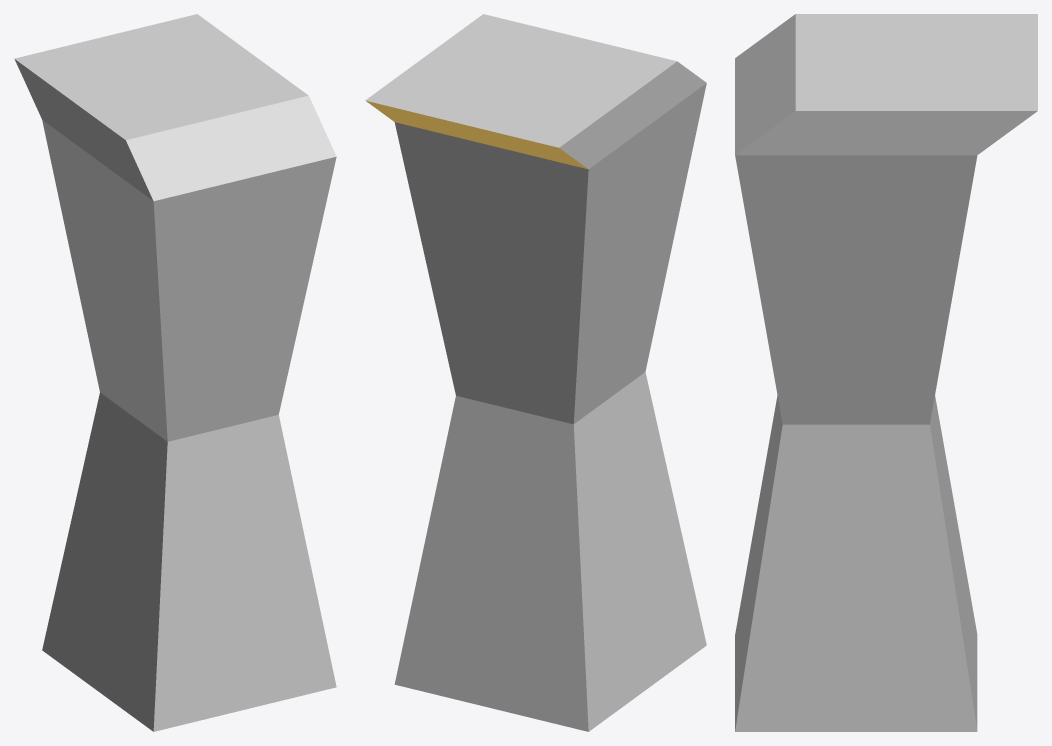
Rendered from Sprinkler.fbx.
The picture shows the model from 3 angles, left to right: view 1: azimuth 30°, elevation 25°; view 2: azimuth 150°, elevation 25°; view 3: azimuth 270°, elevation 25°; orthographic projection. The views are drawn at different scales.
Visible parts, largest first — view 1: Cube; view 2: Cube; view 3: Cube.
Boxes of the visible parts, x1=… form: Cube: x1=14, y1=14, x2=336, y2=731; Cube: x1=365, y1=14, x2=706, y2=731; Cube: x1=735, y1=14, x2=1037, y2=731.
Bounding box in the file's own units: 36.2 × 108 × 47.73.
